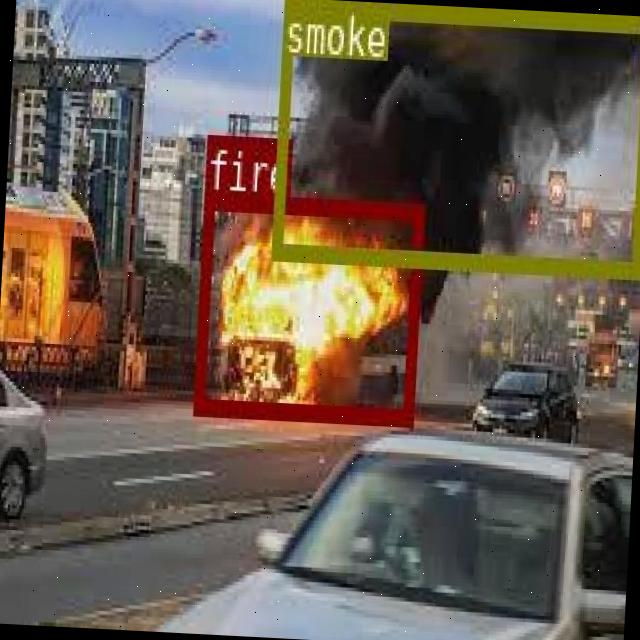fire: (193, 191, 421, 422)
smoke: (271, 0, 640, 273)
